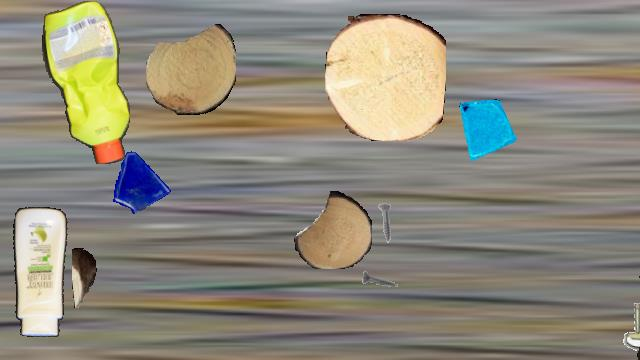glass: (107, 148, 173, 214), (456, 99, 520, 163)
metal: (361, 258, 403, 300), (365, 202, 407, 244), (613, 299, 640, 355)
plastic: (41, 1, 131, 163), (6, 207, 70, 337), (627, 189, 640, 359)
wood: (325, 14, 445, 140), (146, 23, 236, 115), (294, 191, 372, 269), (72, 248, 96, 308)
